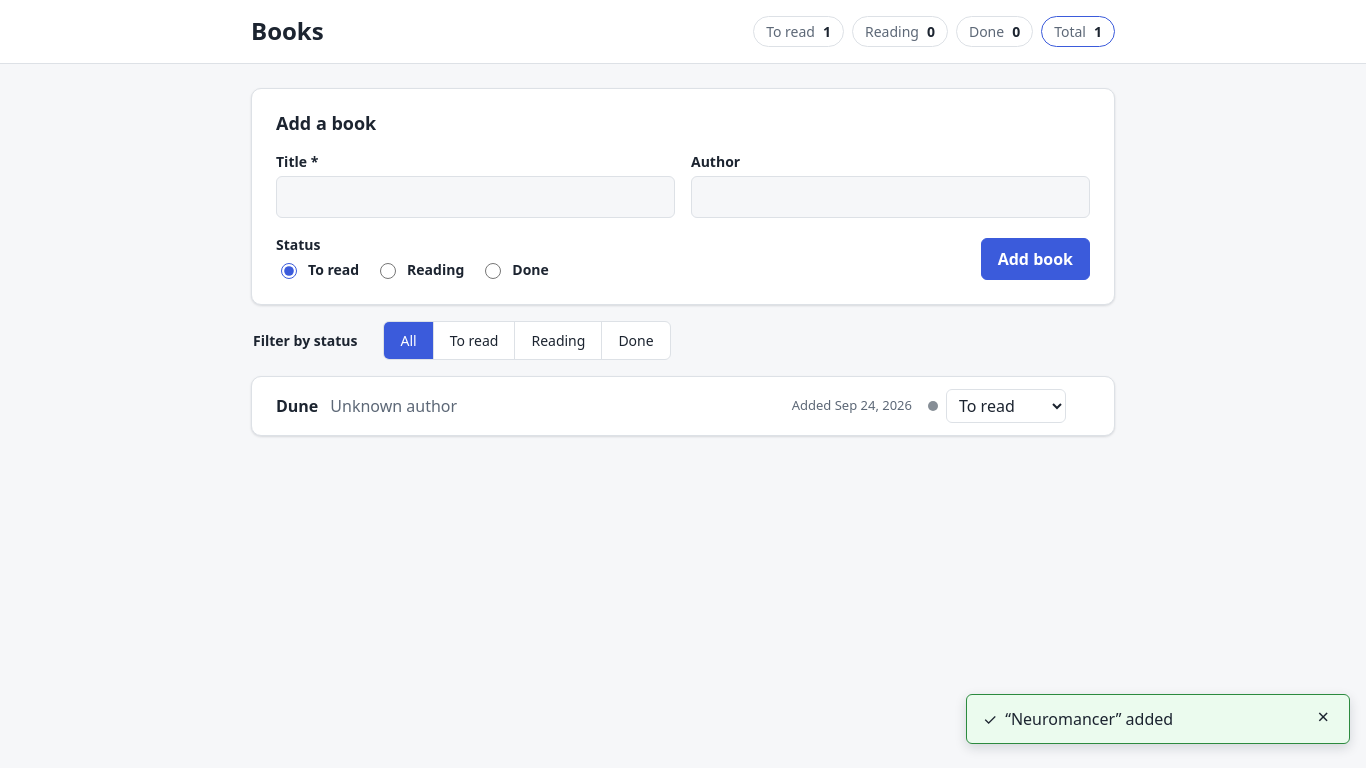
it: Rate limiting (429 + Retry-After) › rolls back an optimistic status change that was rate limited
Select "Done" in the dropdown named "Status for Dune": (1006, 406) [946,389,1066,423]
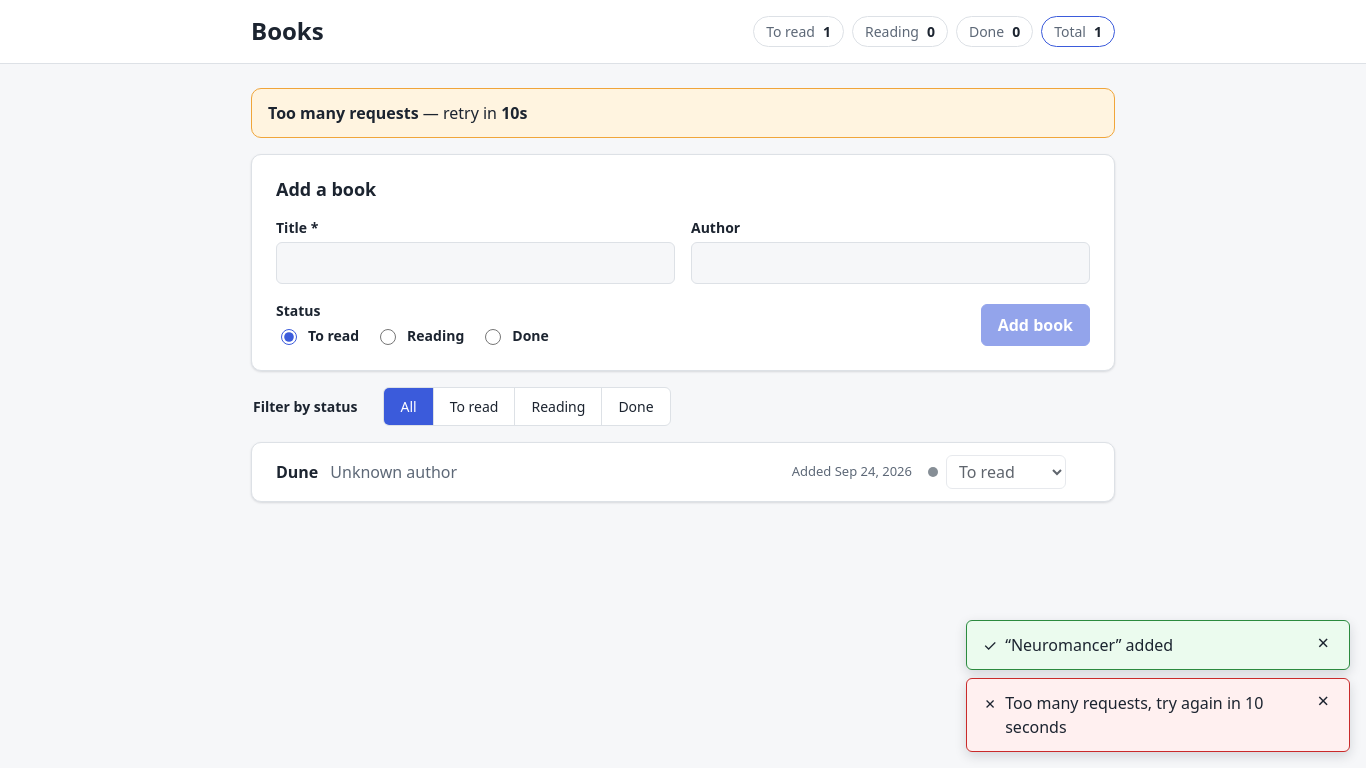
Expected: the 2nd text with test id "stat-done" reads "0", [1012,22,1020,41]
Result: the element with test id "rate-limit-notice" is shown at [251,88,1115,138]
